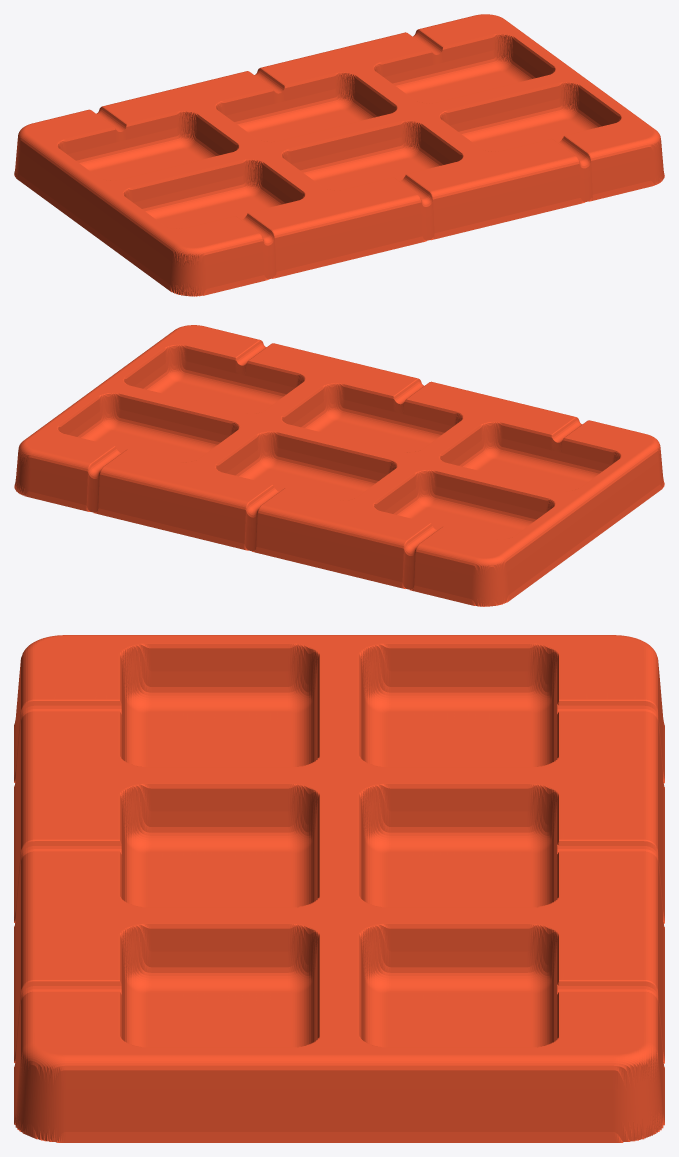
File: mold.glb
3 renders of one model, top to bottom at view 1: azimuth 30°, elevation 25°; view 2: azimuth 150°, elevation 25°; view 3: azimuth 270°, elevation 25°, orthographic. The views are drawn at different scales.
Visible parts, largest first — view 1: geometry_0; view 2: geometry_0; view 3: geometry_0.
Boxes of the visible parts, x1=… form: geometry_0: x1=14, y1=14, x2=664, y2=296; geometry_0: x1=14, y1=325, x2=664, y2=606; geometry_0: x1=14, y1=635, x2=664, y2=1142.
Bounding box in the file's own units: 0.1824 × 0.0155 × 0.1152.
